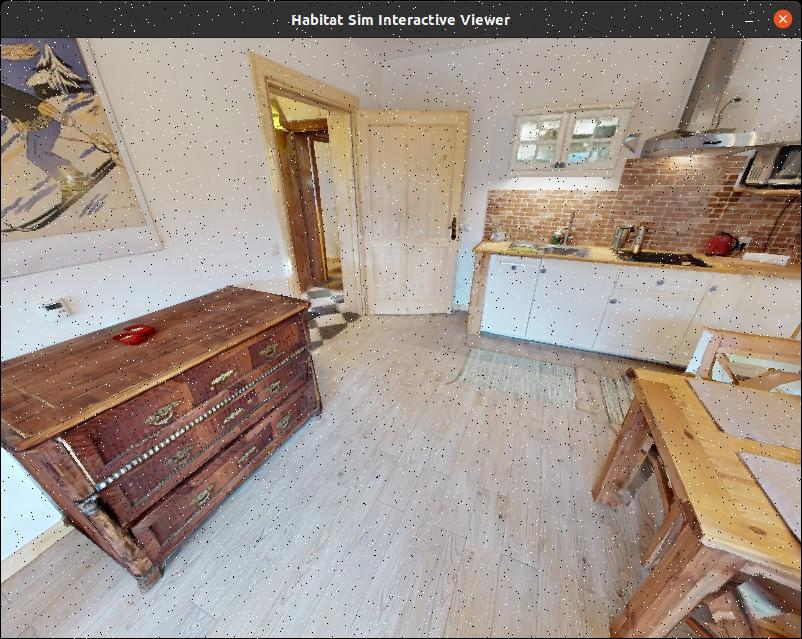door: (373, 113, 467, 312)
door-frame: (275, 85, 380, 340)
table: (595, 353, 802, 639)
